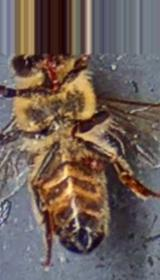varroa_mite: (74, 140, 109, 174)
